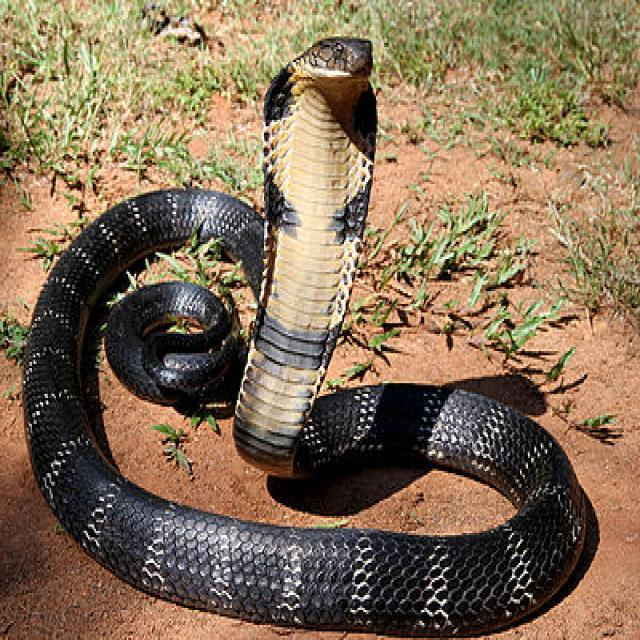Snake: (19, 32, 587, 636)
